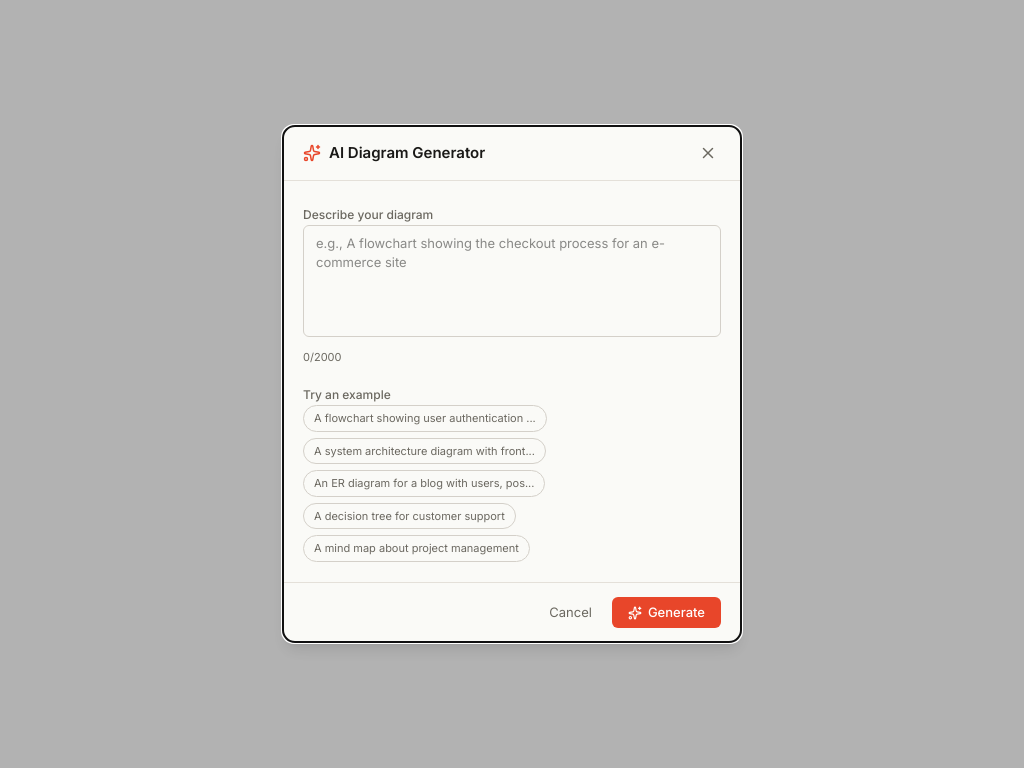
it: AIGenerateModal › shows a useful error when a successful response has no valid elements
Replace the text in the text box with placeholder "checkout process" with "A simple architecture diagram" at x=512, y=281, box [303,225,721,337]
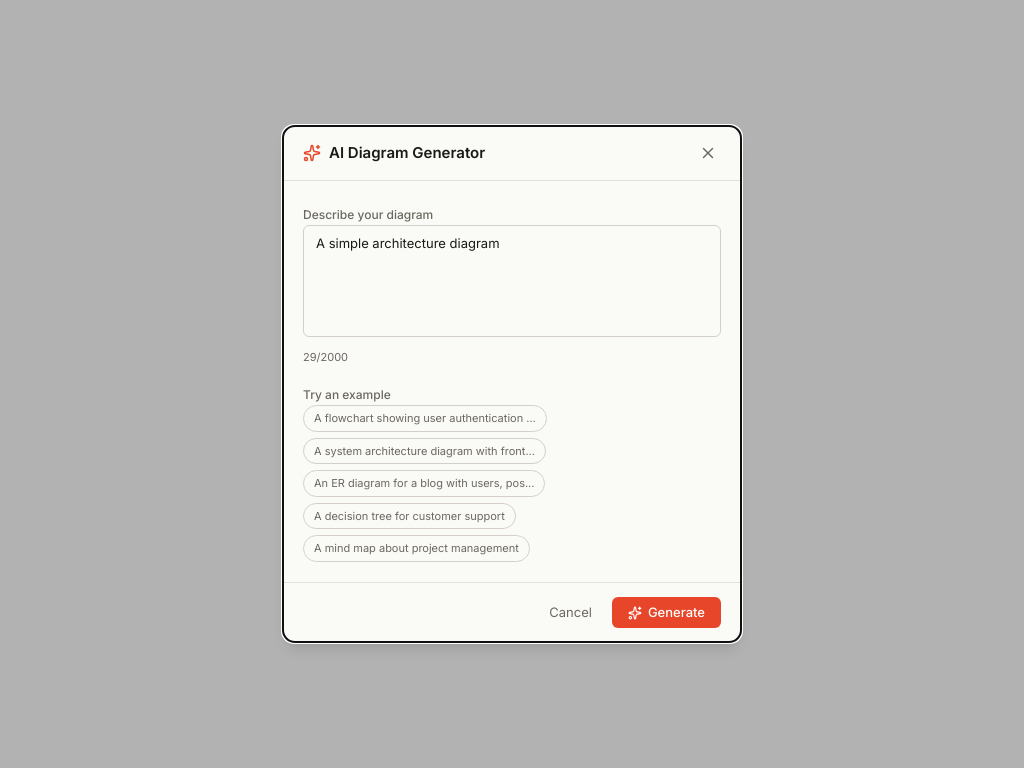
Click the button "Generate" at x=666, y=613, box [612,597,721,628]
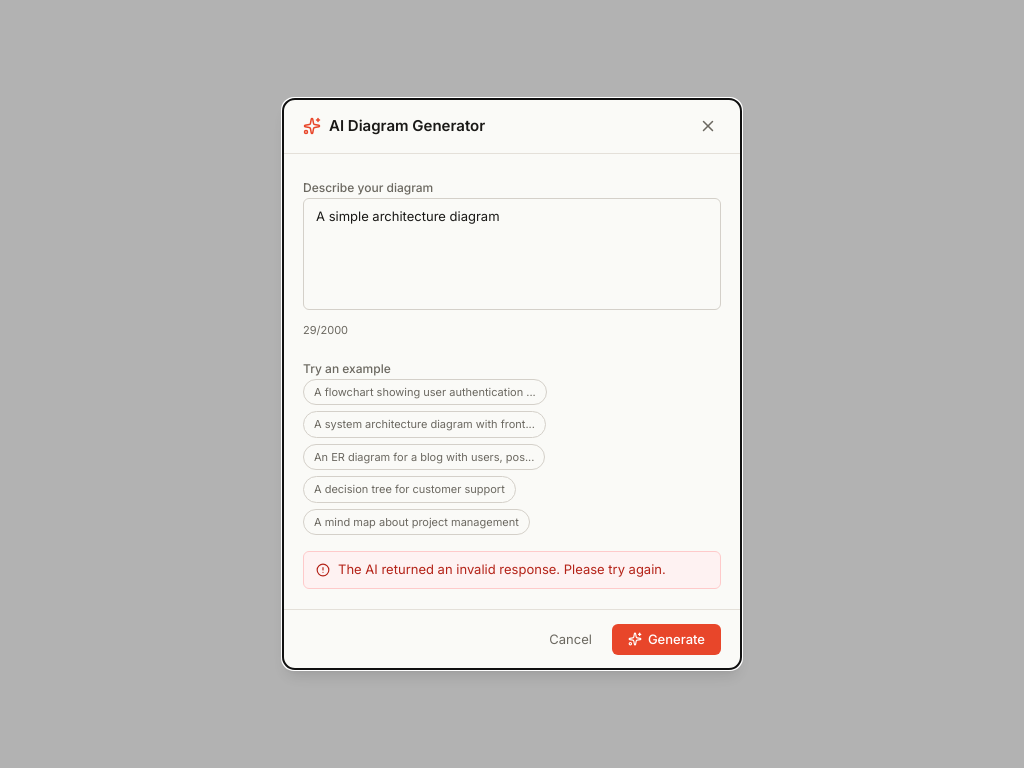
Result: the message reads "The AI returned an invalid response. Please try again." at [338,561,666,577]
